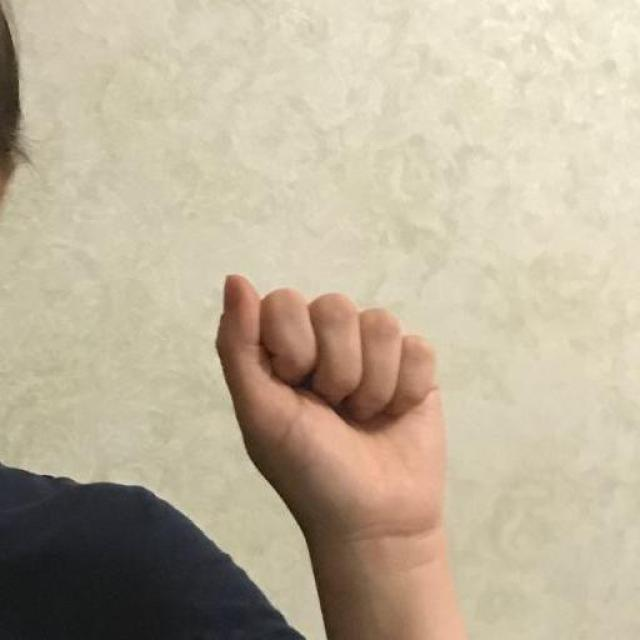hand: (212, 271, 472, 639)
